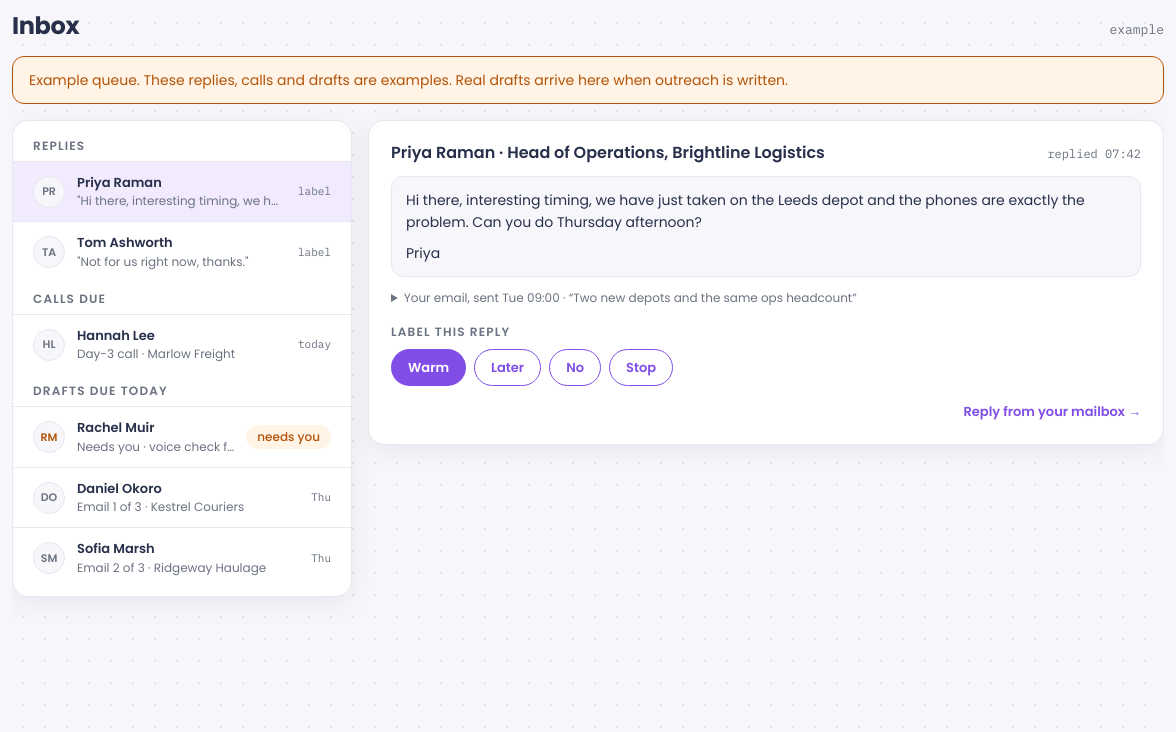
it: the queue › selects the first row to begin with, and the row that is clicked after that
Click the button with test id "queue-row" at [182, 437], box [13,406,351,467]
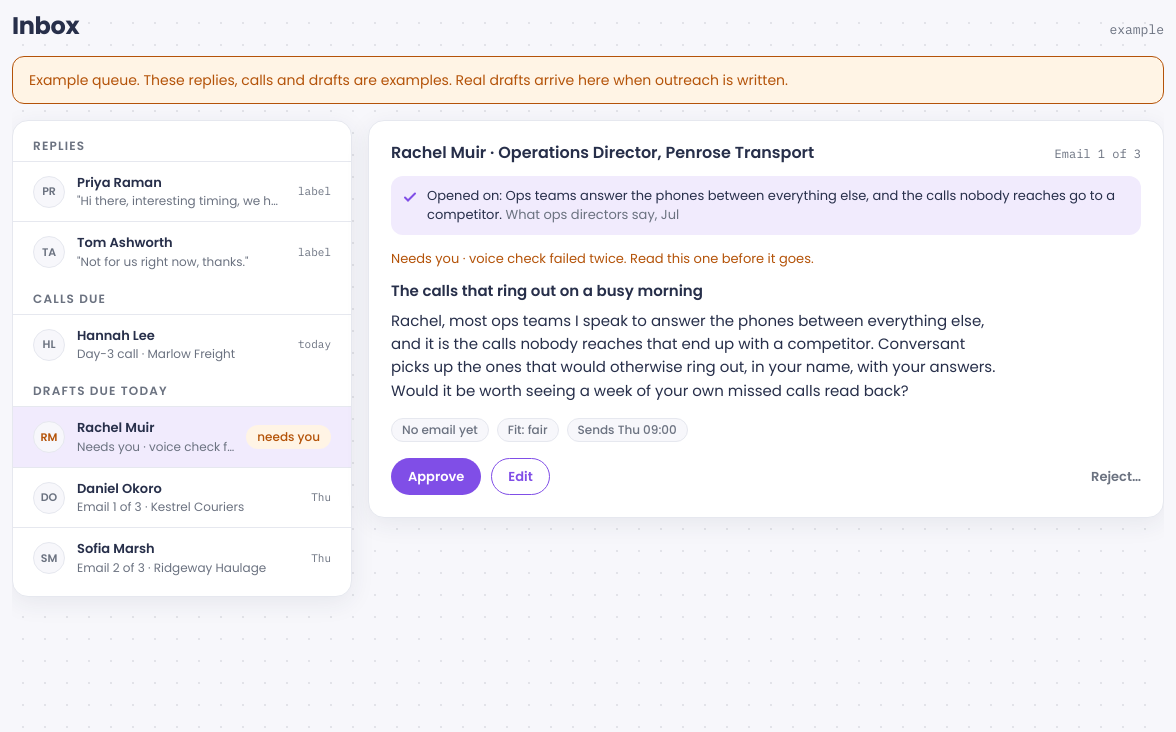
Check: the text with class "font-semibold" reads "Rachel Muir", box [77,418,154,438]
Check: the heading "Rachel Muir · Operations Director, Penrose Transport" is shown, box [391,143,814,164]
